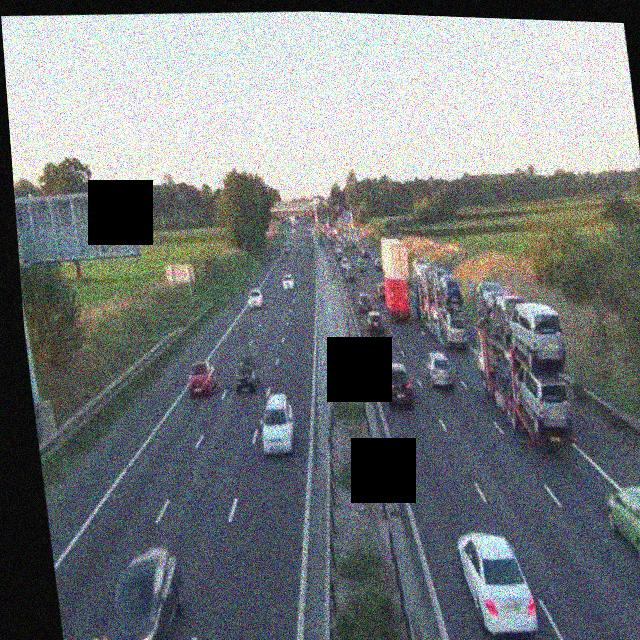car: (90, 542, 191, 640), (457, 530, 540, 639), (505, 298, 568, 372), (604, 482, 640, 569), (256, 392, 298, 455), (492, 292, 529, 342), (381, 361, 415, 407), (475, 280, 511, 320), (231, 354, 262, 394), (425, 350, 456, 389), (186, 360, 218, 397), (440, 312, 469, 348), (439, 273, 464, 309), (365, 308, 386, 335), (246, 288, 265, 310), (358, 290, 374, 314), (281, 270, 295, 290), (345, 264, 357, 280), (340, 257, 352, 272), (357, 258, 368, 271)
truck: (470, 307, 579, 454), (414, 263, 469, 352), (374, 234, 419, 319)
